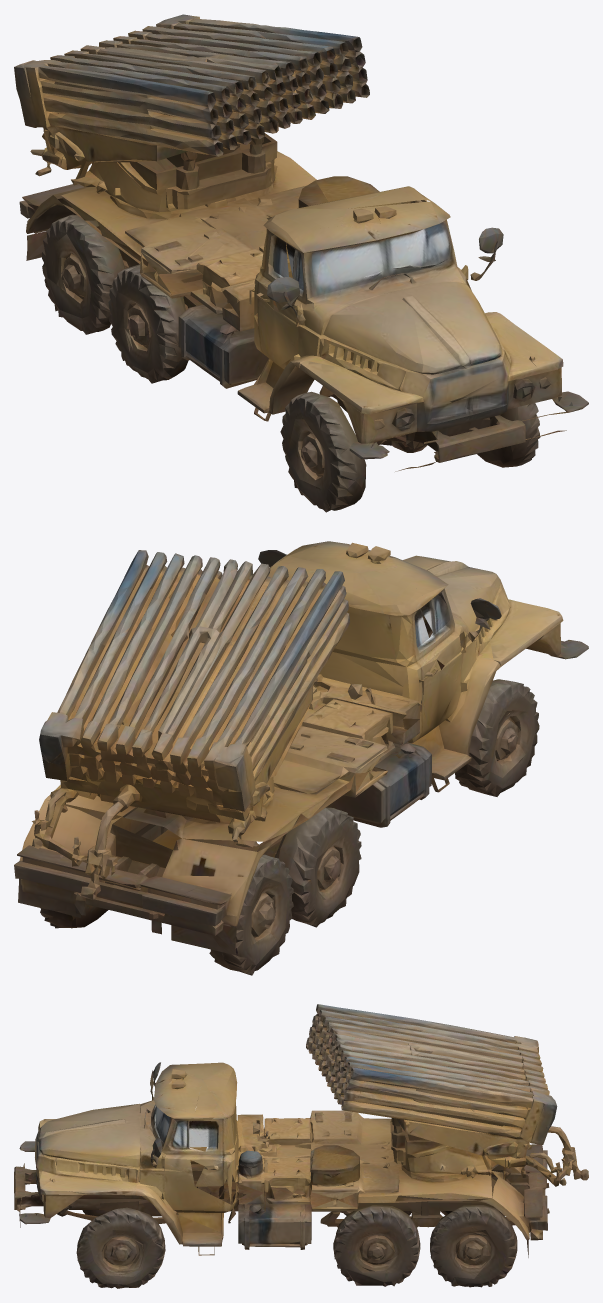
File: bm21_grad.glb
3 views of the same model, one above another, from view 1: azimuth 30°, elevation 25°; view 2: azimuth 150°, elevation 25°; view 3: azimuth 270°, elevation 25° (orthographic). The views are drawn at different scales.
Visible parts, largest first — view 1: hull, launcher; view 2: launcher, hull; view 3: hull, launcher.
Boxes of the visible parts, x1,y1,x2,y2 form: hull: (19, 184, 588, 512); launcher: (14, 14, 429, 317); launcher: (32, 550, 443, 875); hull: (14, 541, 588, 975); hull: (14, 1062, 588, 1288); launcher: (184, 1004, 576, 1206).
Bounding box in the file's own units: 2.59 × 3.17 × 7.35.
1 material, 1 textured.
